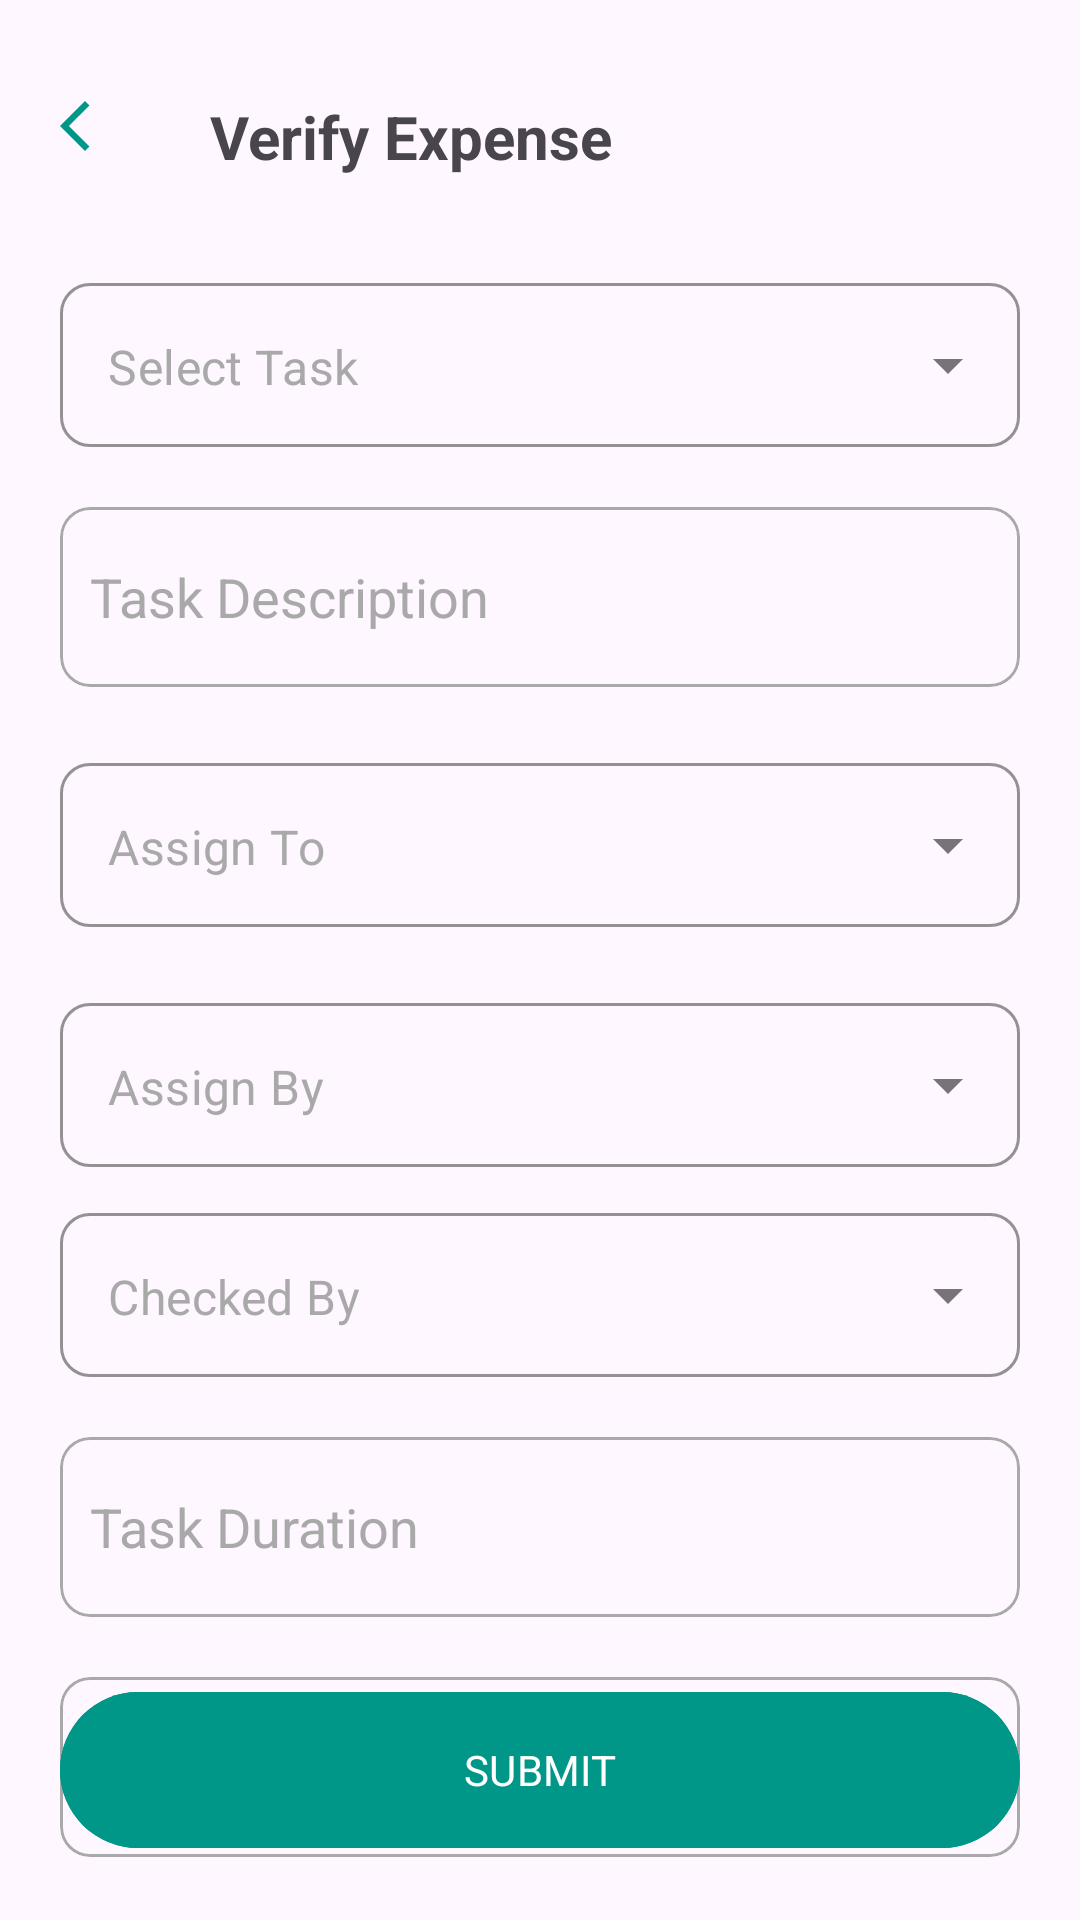

Icons on this 1080x1920 Android screen, each with the point to tap as [x,y]:
back: [75,126]
